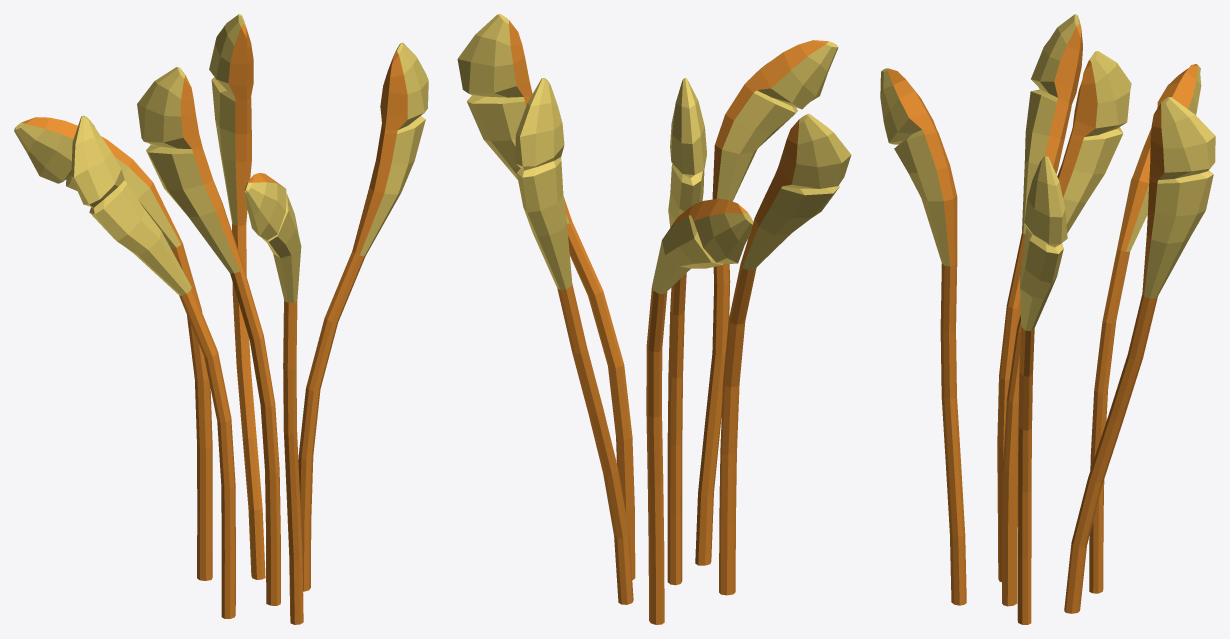
The model's file is Gras_02_Var_05.fbx.
3 views of the same model, side by side, from view 1: azimuth 30°, elevation 25°; view 2: azimuth 150°, elevation 25°; view 3: azimuth 270°, elevation 25° (orthographic). The views are drawn at different scales.
Parts seen in each view (by area): view 1: Gras_02_Var_05; view 2: Gras_02_Var_05; view 3: Gras_02_Var_05.
Part boxes in pixels (<box>): Gras_02_Var_05: <box>14,14,428,624</box>; Gras_02_Var_05: <box>457,14,851,624</box>; Gras_02_Var_05: <box>880,14,1215,624</box>.
Size of the model in its own units: 0.2408 by 0.4188 by 0.3045.
